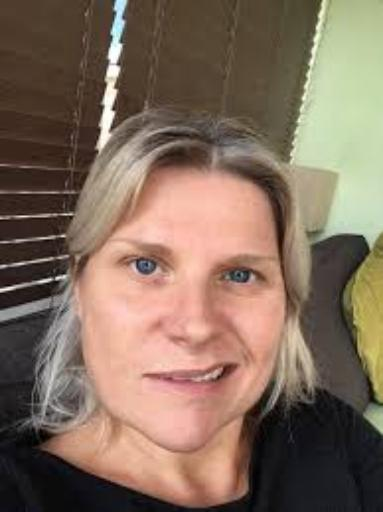left_eye: (219, 268, 269, 291)
left_lip_corner: (229, 356, 246, 376)
right_eye: (117, 257, 172, 283)
right_lip_corner: (138, 368, 158, 387)
